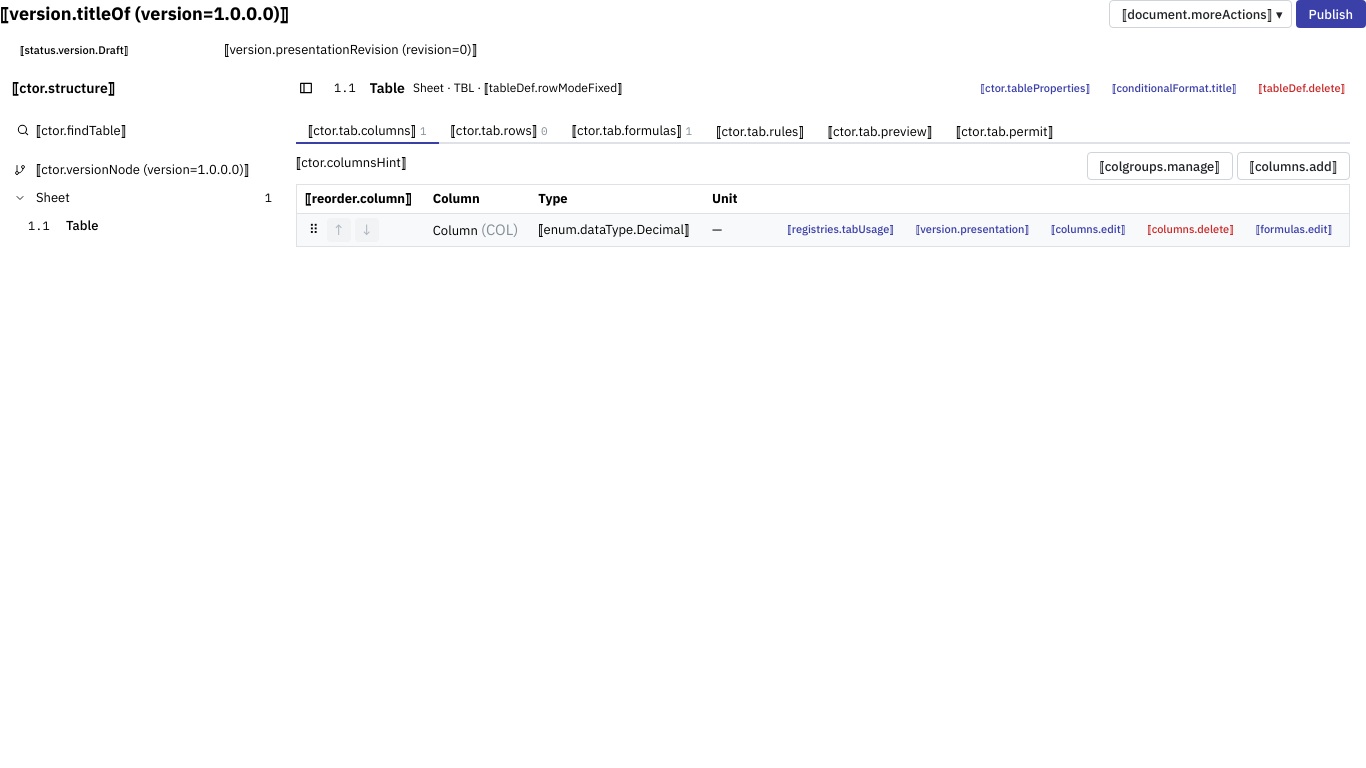
Test: TemplateVersionPage: афорданс «де використано» колонки (ФВ-8.14) › total: 0 — модалка все одно показує «ніде не використано», не порожньо
Expected: the element with test id "ctor-table" is shown, left=280, top=68, right=1365, bottom=263
Click the button "⟦registries.tabUsage⟧" at point(840, 230), box left=778, top=218, right=903, bottom=242
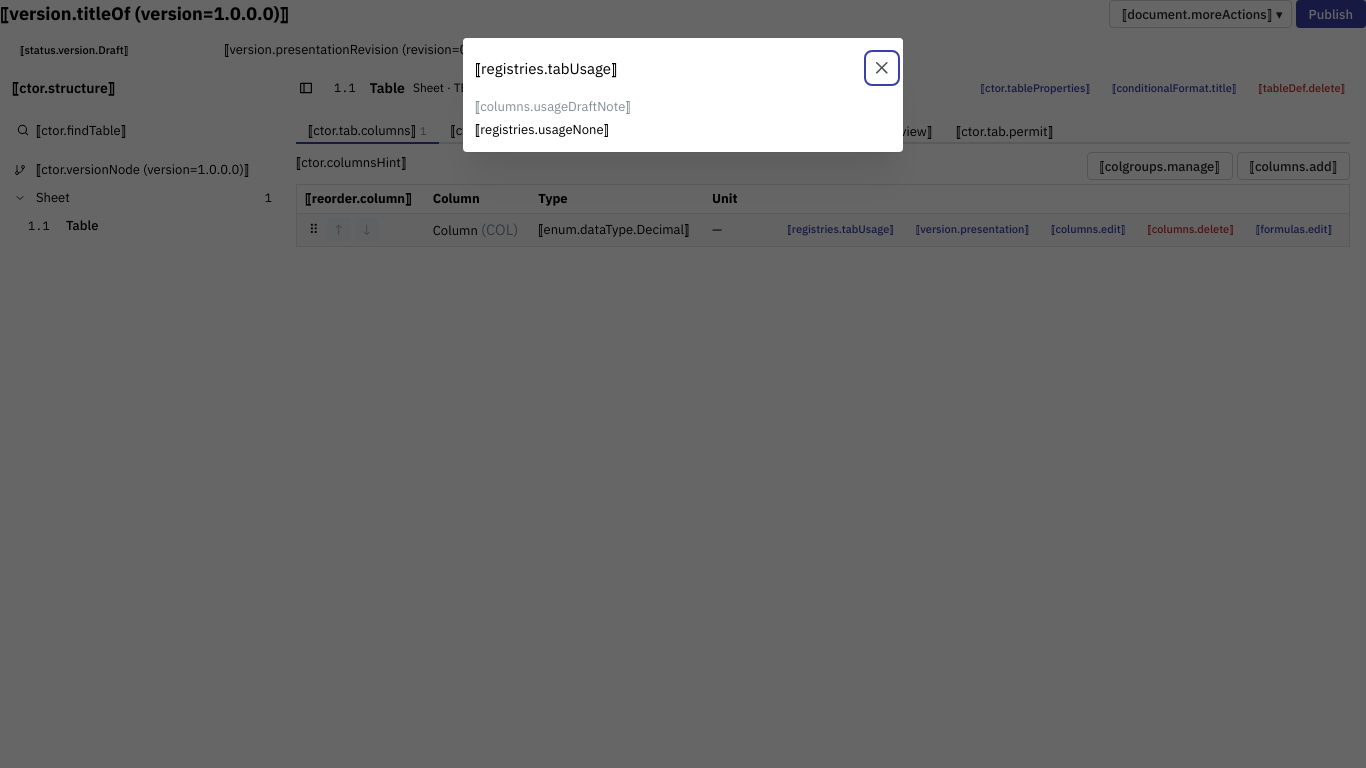
Expected: the text "⟦registries.usageNone⟧" is shown, left=475, top=121, right=609, bottom=138
